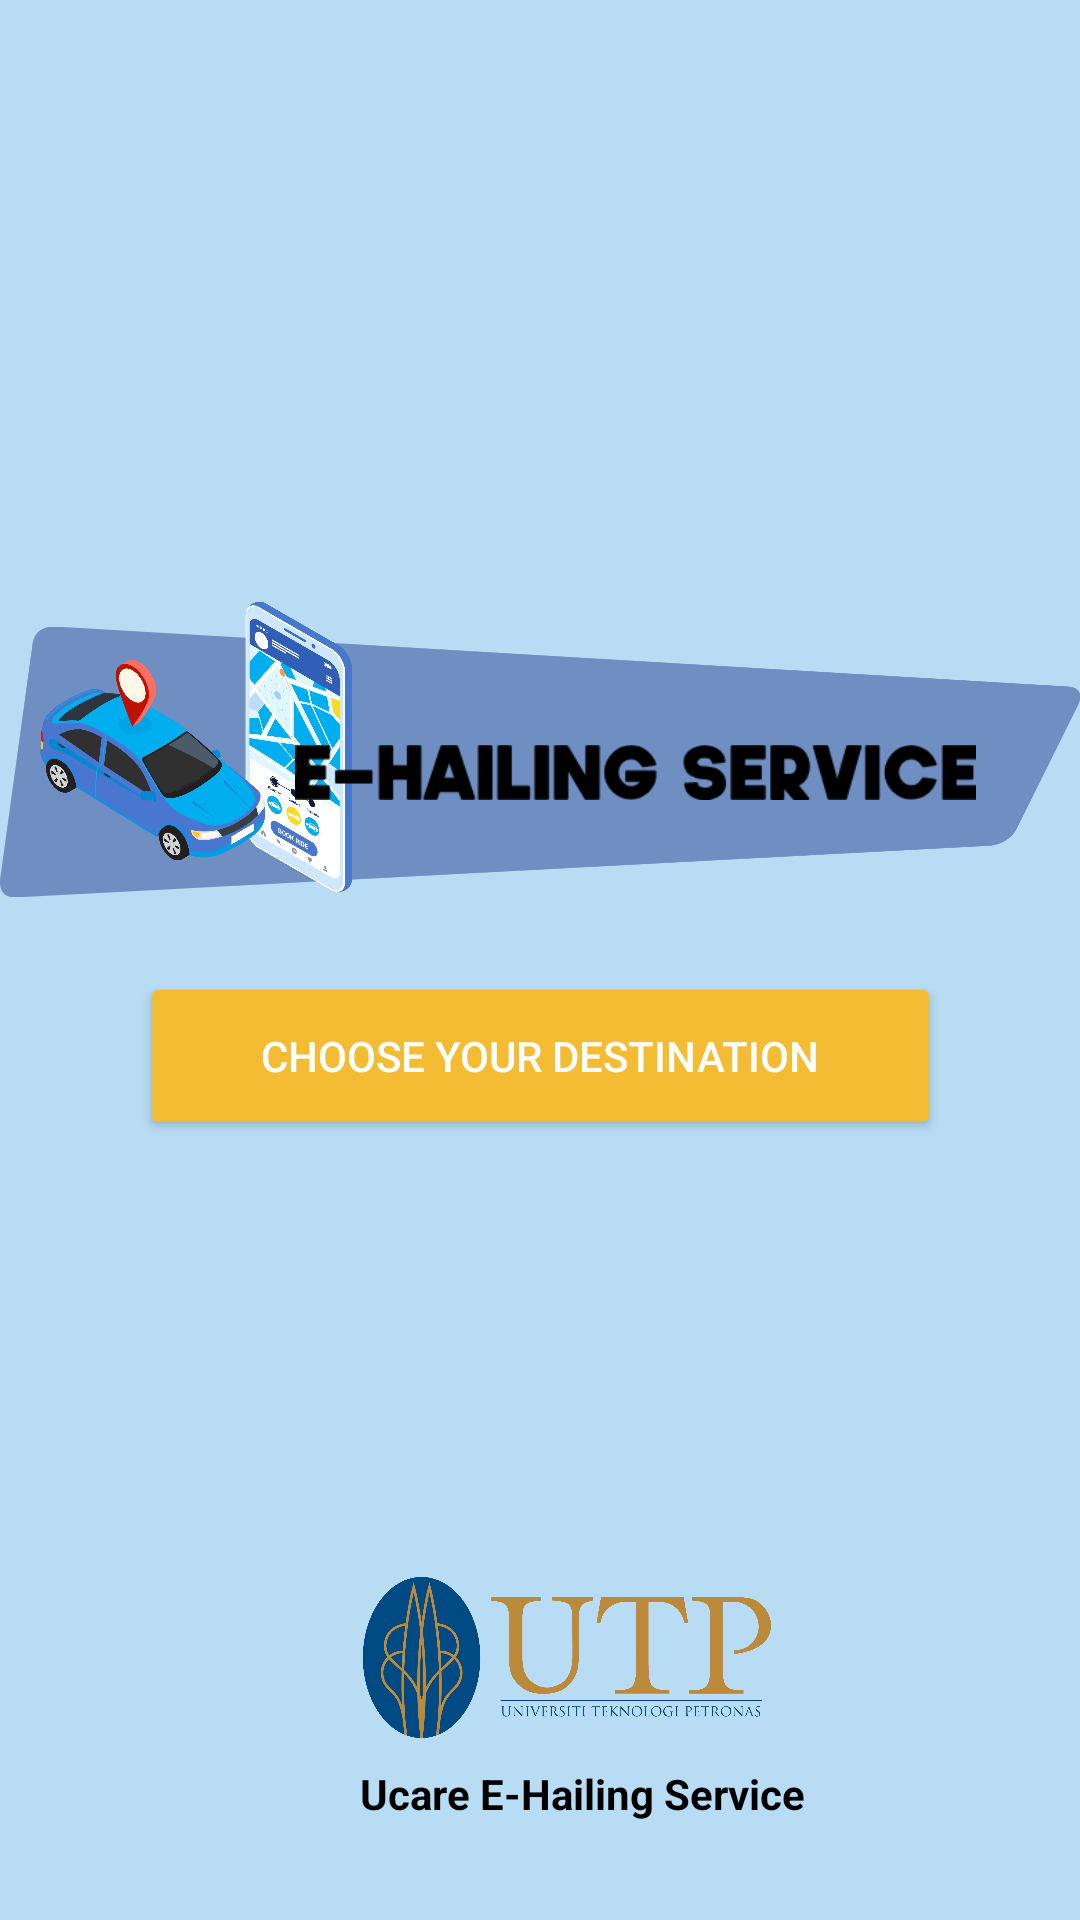

Icon bounding boxes for this 1080*1920 phone screenshot, format (x1=x1, y1=y1, x2=x2, y2=y2):
cars: (x1=40, y1=602, x2=352, y2=896)
